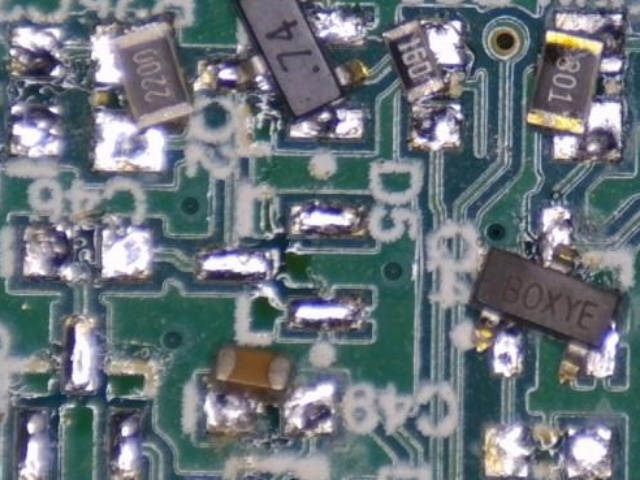pcb_defect: (469, 207, 621, 382), (196, 0, 367, 139), (90, 18, 195, 173), (526, 10, 627, 163), (203, 343, 337, 437), (380, 19, 467, 151), (640, 0, 640, 64)
